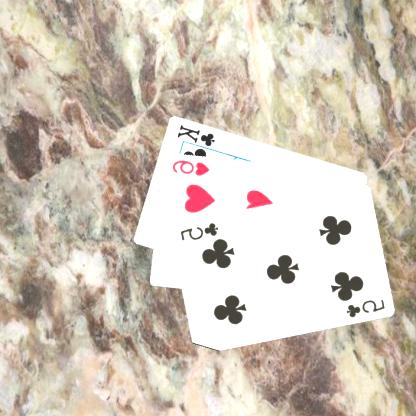5C: (344, 297, 388, 319), (178, 220, 221, 242)
6H: (171, 156, 212, 177)
KC: (176, 122, 219, 153)
